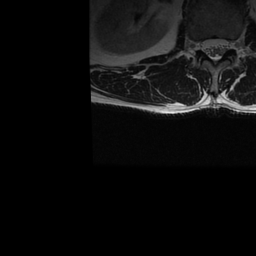CCS_normal: (209, 32, 220, 68)
LFS_normal: (228, 34, 235, 56)
LLS_normal: (220, 32, 227, 60)
RFS_normal: (196, 34, 202, 58)
RLS_normal: (202, 34, 210, 60)
